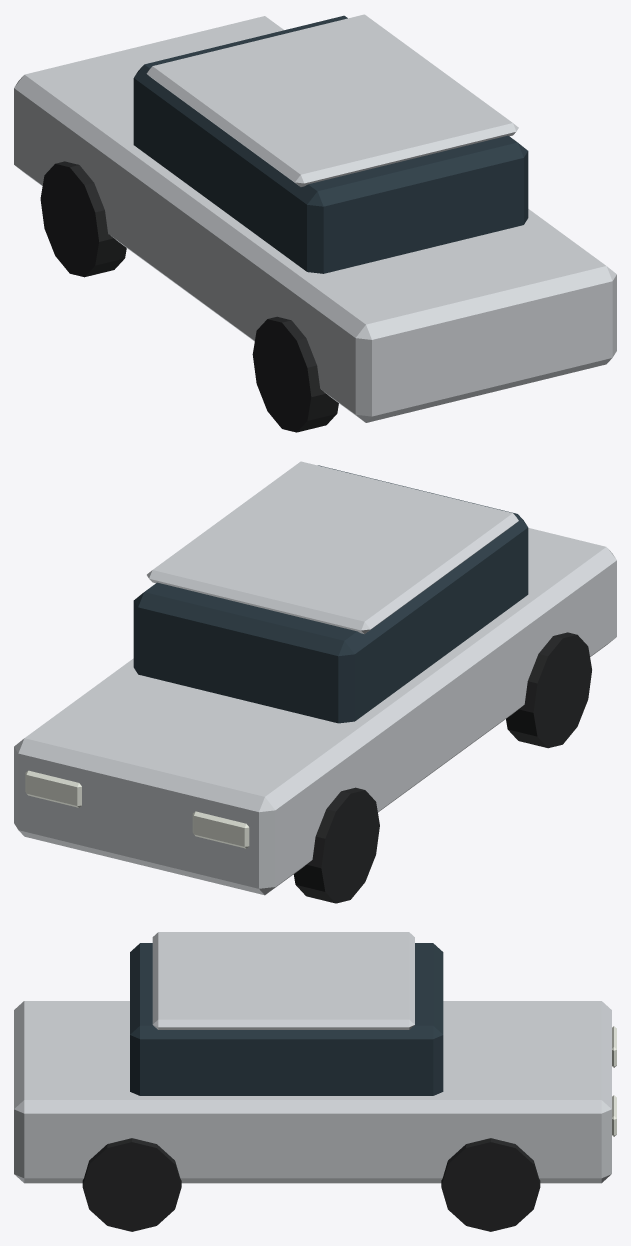
File: parked_car-mid.glb
The picture shows the model from 3 angles, top to bottom: view 1: azimuth 30°, elevation 25°; view 2: azimuth 150°, elevation 25°; view 3: azimuth 270°, elevation 25°; orthographic projection. The views are drawn at different scales.
Parts seen in each view (by area): view 1: Body; view 2: Body; view 3: Body.
Boxes of the visible parts, bbox=[...] form: Body: bbox=[14, 14, 616, 432]; Body: bbox=[14, 461, 616, 903]; Body: bbox=[14, 932, 616, 1231].
Size of the model in its own units: 1.25 by 1 by 2.76.
